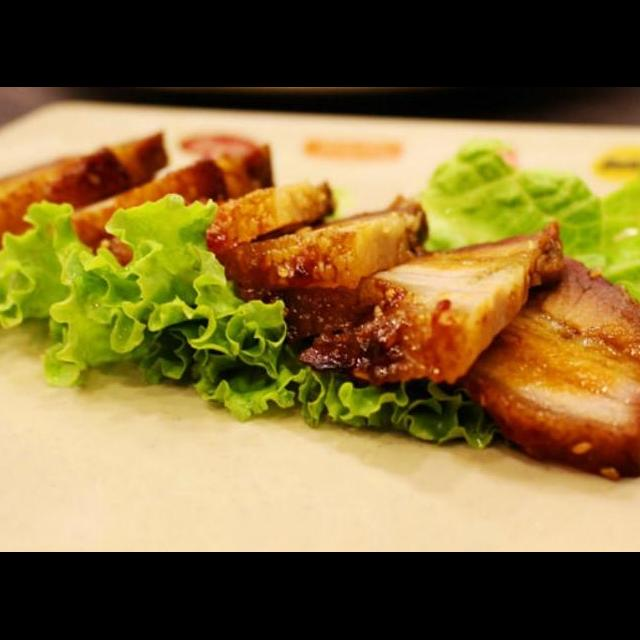thit heo quay: (435, 251, 640, 485), (296, 215, 570, 388), (0, 136, 288, 274), (222, 188, 438, 348), (82, 174, 340, 284), (0, 124, 173, 285)
